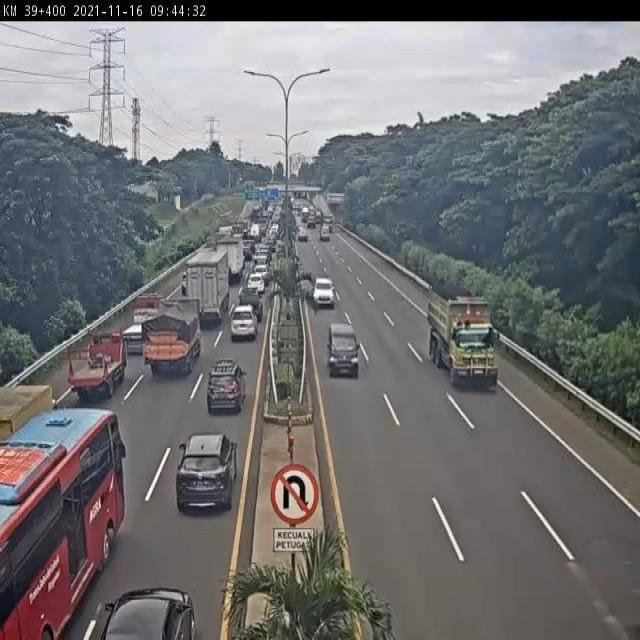car: (176, 432, 233, 513), (207, 362, 244, 414), (329, 323, 359, 376), (228, 310, 258, 346), (238, 290, 265, 326), (312, 278, 334, 310), (247, 274, 266, 294)
small truck: (68, 332, 126, 399), (121, 292, 167, 355)
truck-l-: (430, 300, 499, 388), (187, 253, 230, 326)
truck-m-: (143, 306, 200, 378), (216, 239, 244, 280)
